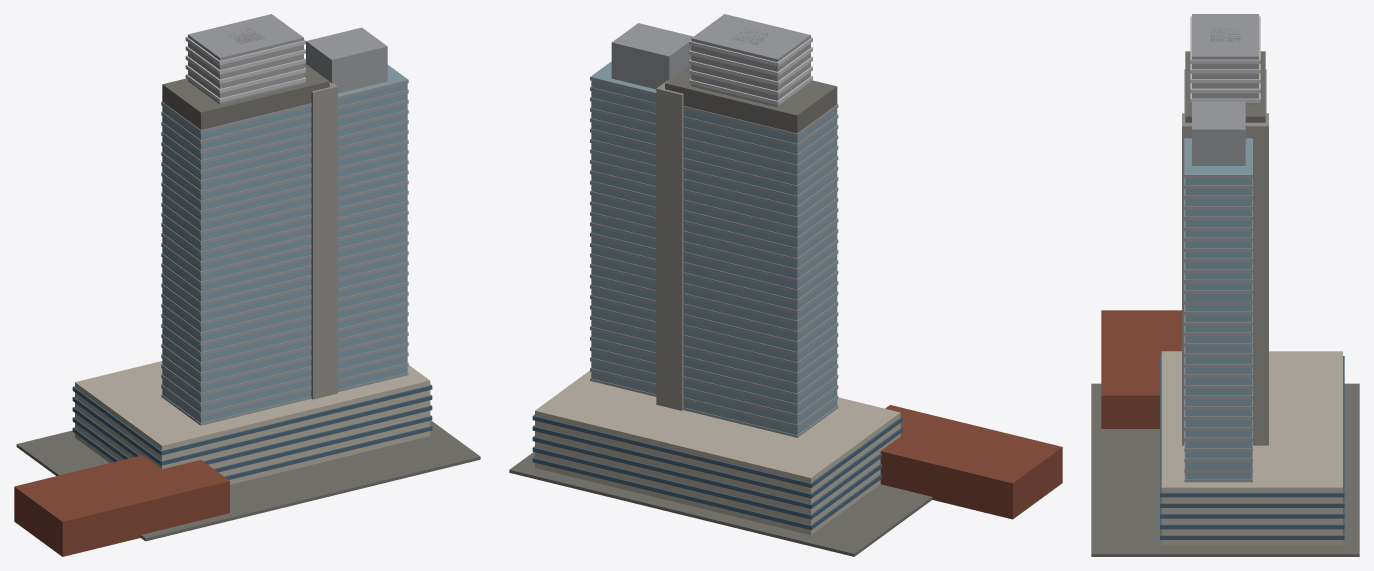
Rendered from guys_tower.glb.
The picture shows the model from 3 angles, left to right: view 1: azimuth 30°, elevation 25°; view 2: azimuth 150°, elevation 25°; view 3: azimuth 270°, elevation 25°; orthographic projection. The views are drawn at different scales.
Visible parts, largest first — view 1: guys_tower; view 2: guys_tower; view 3: guys_tower.
Part boxes in pixels (x1,y1,x2,y2): guys_tower: (14, 14, 480, 556); guys_tower: (509, 14, 1062, 556); guys_tower: (1091, 14, 1359, 556).
Size of the model in its own units: 148 by 143 by 80.
